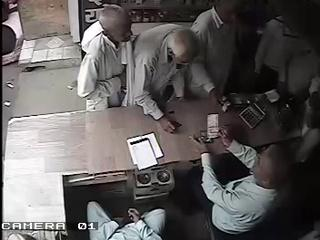Normal: (192, 125, 296, 240), (127, 23, 200, 133), (188, 0, 241, 101), (87, 200, 166, 240)
shoplifting: (76, 4, 133, 111)
